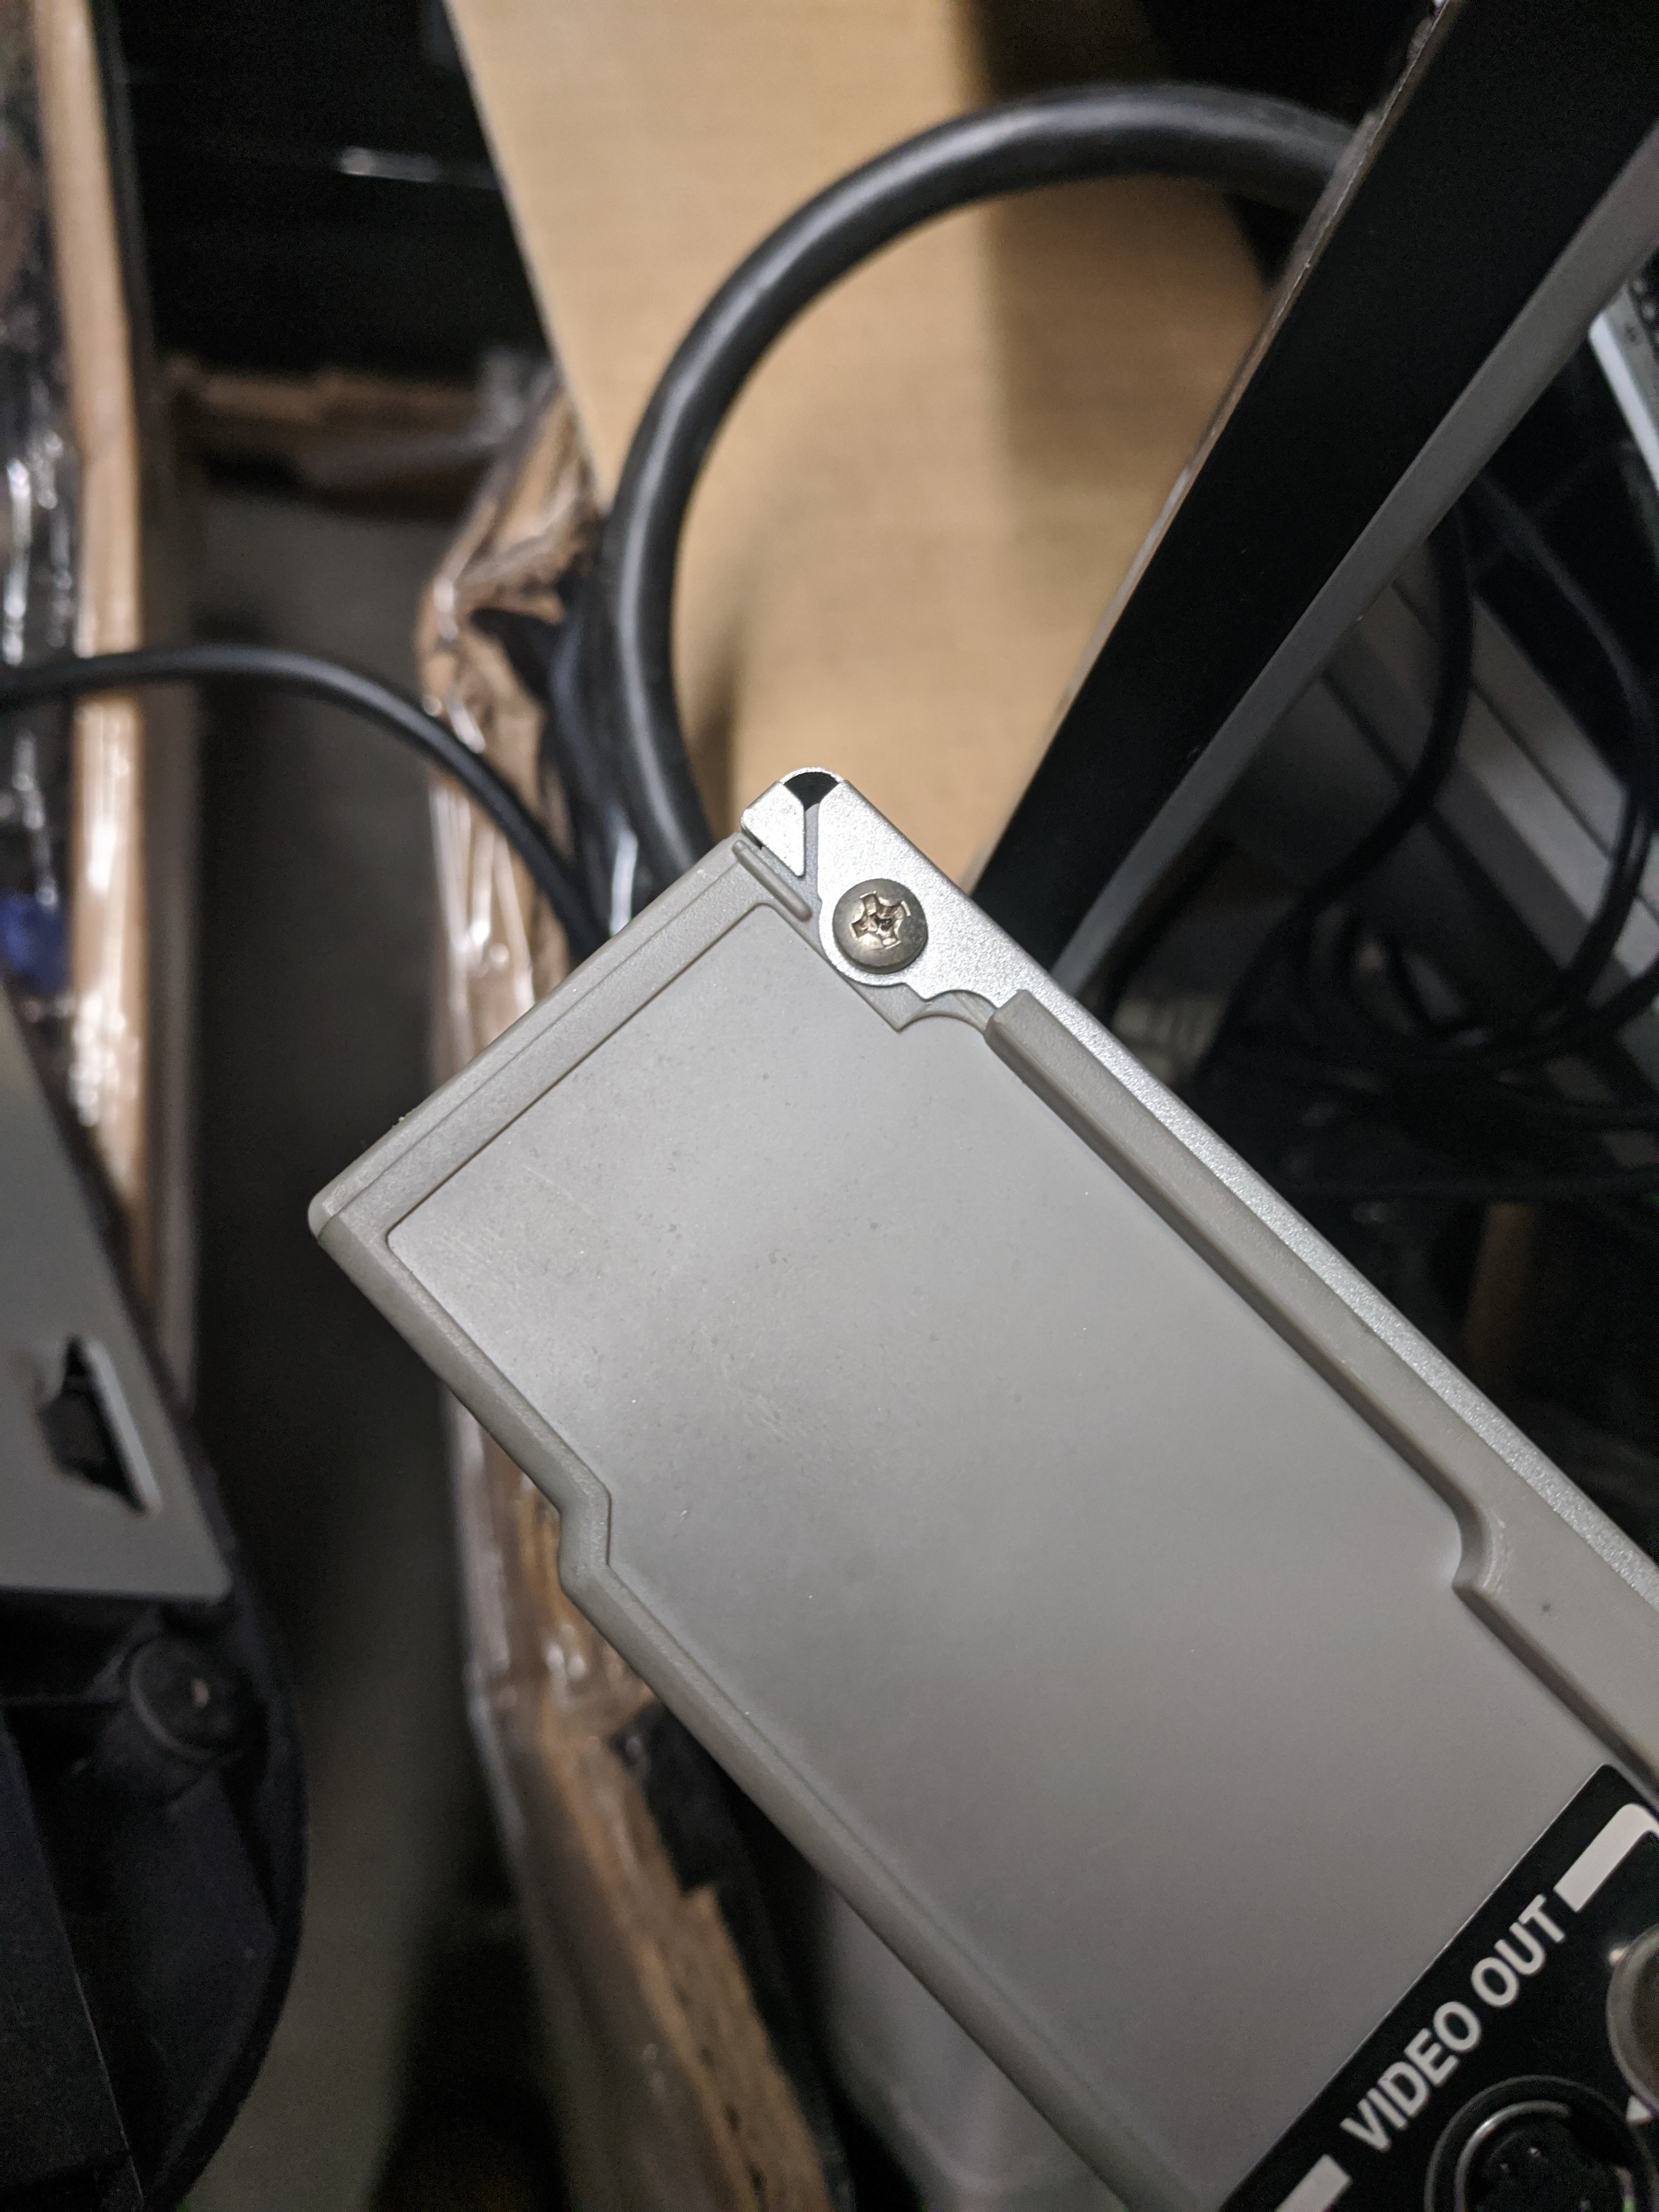cross_recessed_screw: (823, 866, 934, 963)
